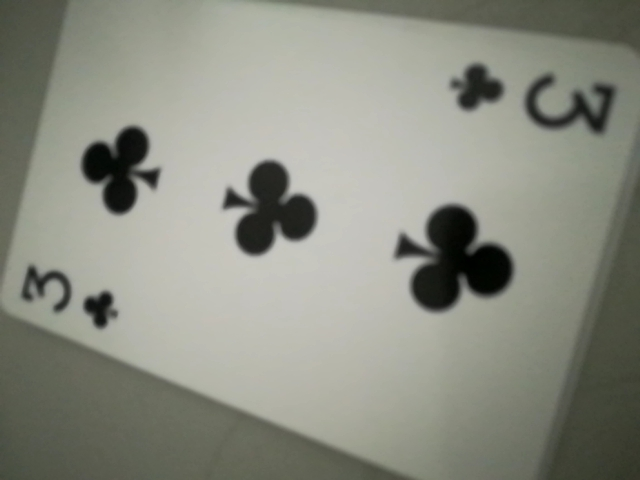mh 3: (446, 51, 622, 144), (7, 257, 132, 336)
